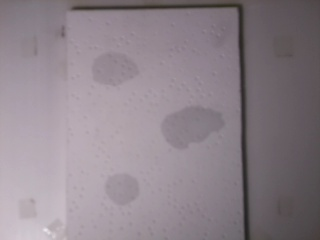Water_detected: (166, 102, 217, 143), (100, 51, 138, 87), (104, 171, 141, 202)
